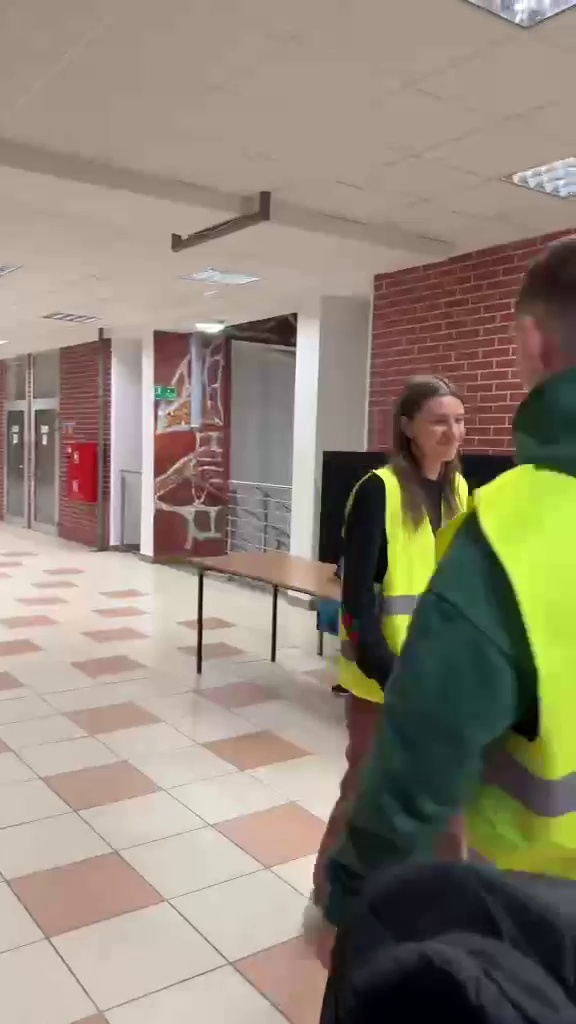vest: (446, 261, 576, 870), (333, 367, 475, 683)
